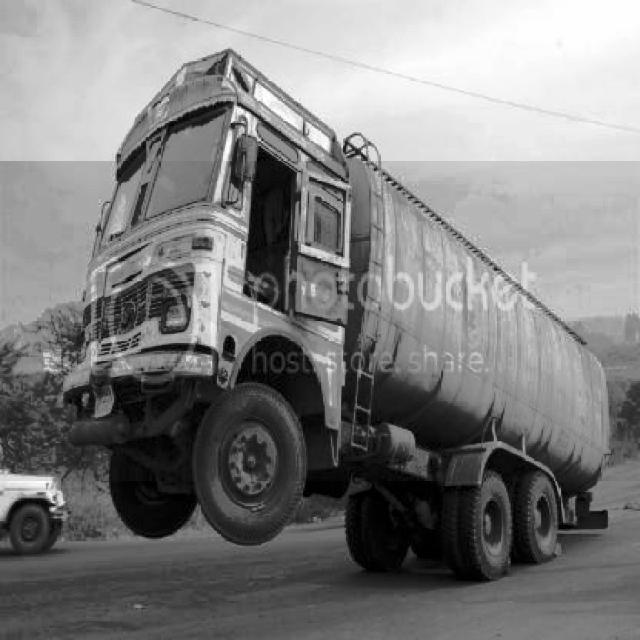HCV: (97, 112, 581, 576)
